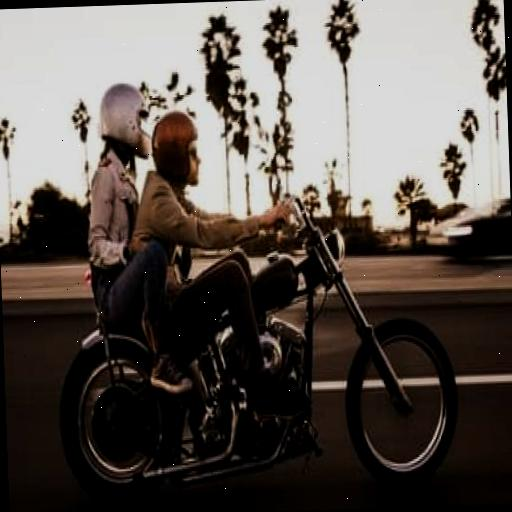helmet: (147, 70, 318, 508)
